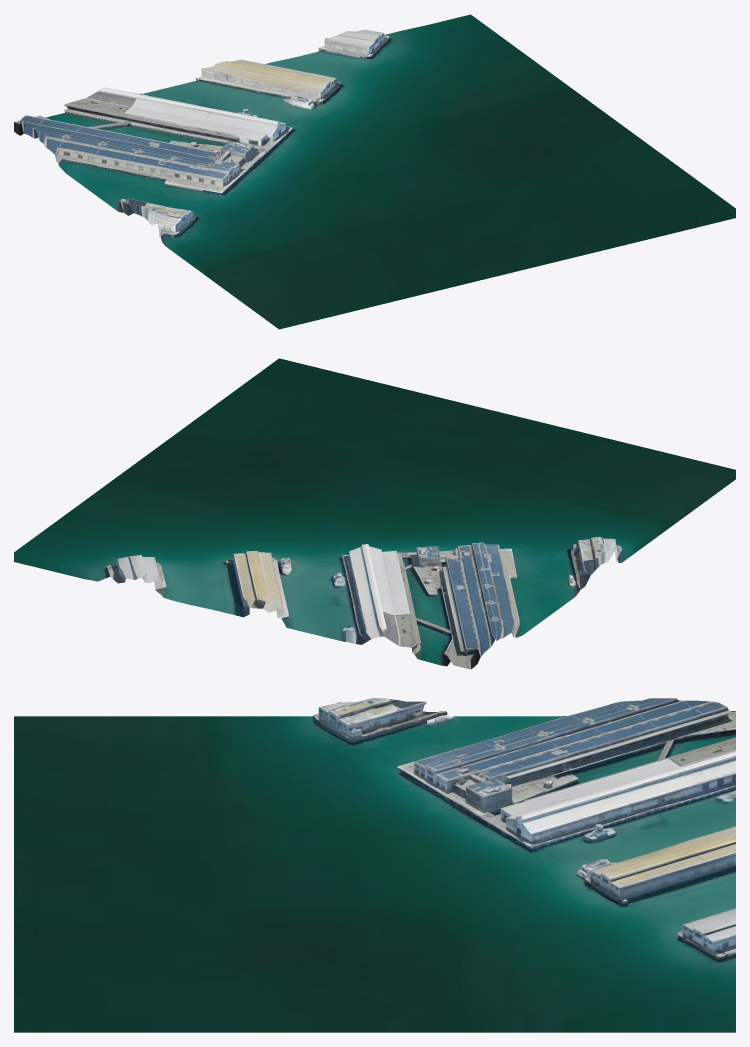
The model's file is z16-10486-25324-h0-yup-uvflip-v3-world.glb.
The picture shows the model from 3 angles, top to bottom: view 1: azimuth 30°, elevation 25°; view 2: azimuth 150°, elevation 25°; view 3: azimuth 270°, elevation 25°; orthographic projection. The views are drawn at different scales.
Size of the model in its own units: 483 by 26.24 by 485.
1 material, 1 textured.
